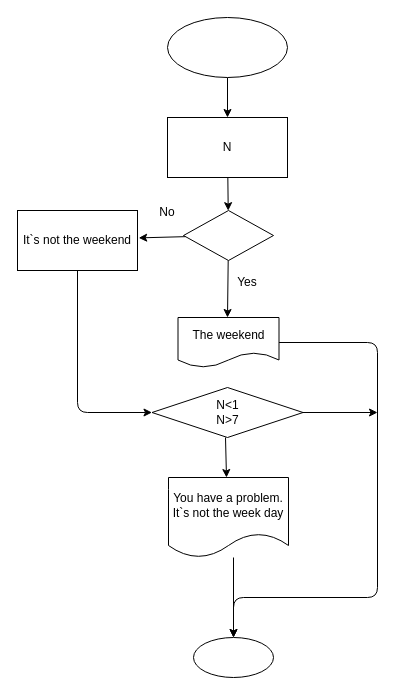
The diagram is 403 pixels wide and 695 high, and some of its shapes have lost their labels. The centre of each missing label's shape, as x and y in pixels:
"end" goes at [233,657].
"N==6 N==7" goes at [228,235].
"start" goes at [227,47].
